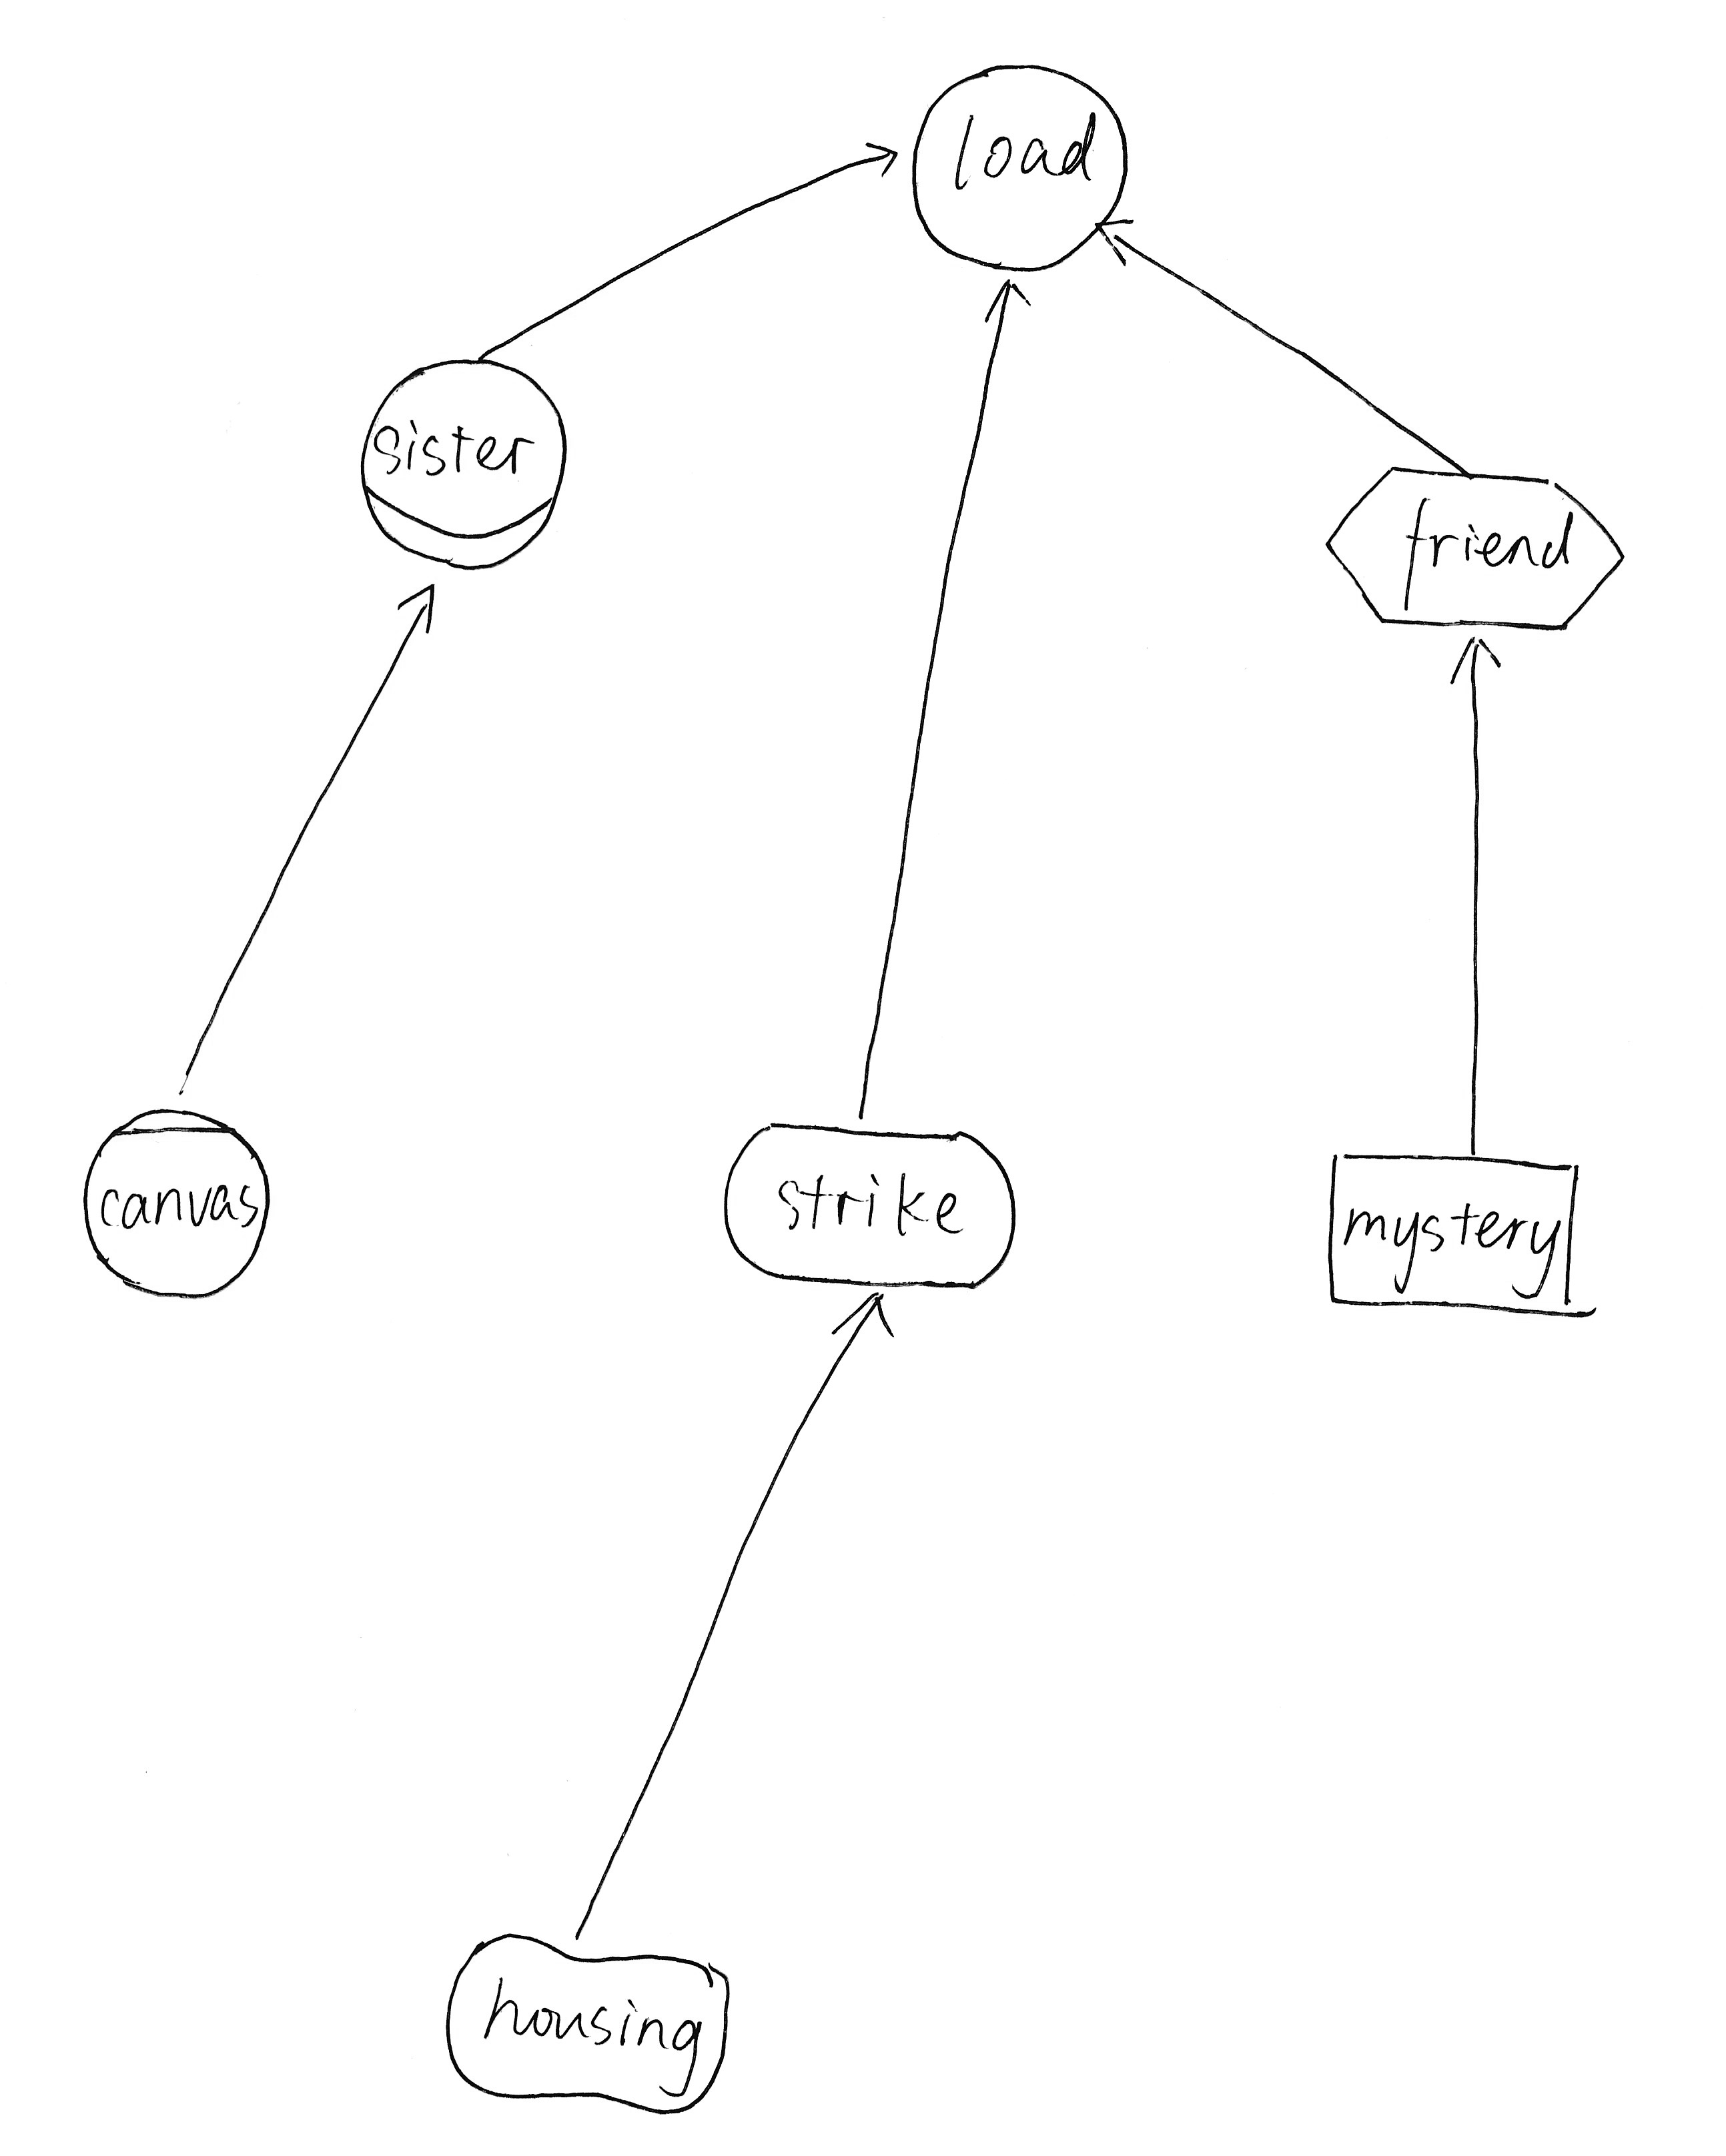actor: (889, 48, 1148, 291)
agent: (58, 1085, 284, 1319)
arrow: (1434, 624, 1523, 703), (375, 574, 453, 655), (819, 1284, 905, 1353), (970, 268, 1044, 338), (854, 122, 909, 201), (1085, 204, 1145, 275)
goal: (704, 1101, 1039, 1307)
quality: (419, 1915, 749, 2133)
resource: (1298, 1127, 1615, 1342)
role: (347, 336, 578, 590)
task: (1307, 446, 1645, 646)
